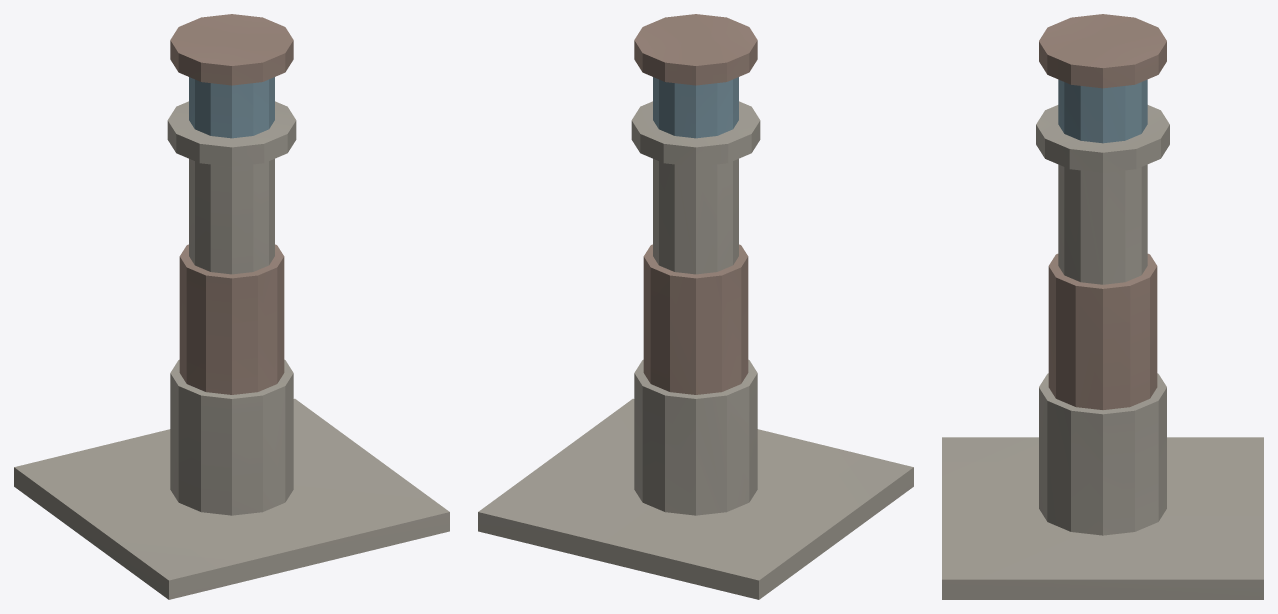
Rendered from lighthouse-04.glb.
The picture shows the model from 3 angles, left to right: view 1: azimuth 30°, elevation 25°; view 2: azimuth 150°, elevation 25°; view 3: azimuth 270°, elevation 25°; orthographic projection. The views are drawn at different scales.
Parts seen in each view (by area): view 1: world; view 2: world; view 3: world.
Boxes of the visible parts, left/top/right/bottom form: world: left=14, top=14, right=449, bottom=599; world: left=478, top=14, right=913, bottom=599; world: left=942, top=14, right=1263, bottom=599.
Size of the model in its own units: 1.21 by 1.93 by 1.15.
